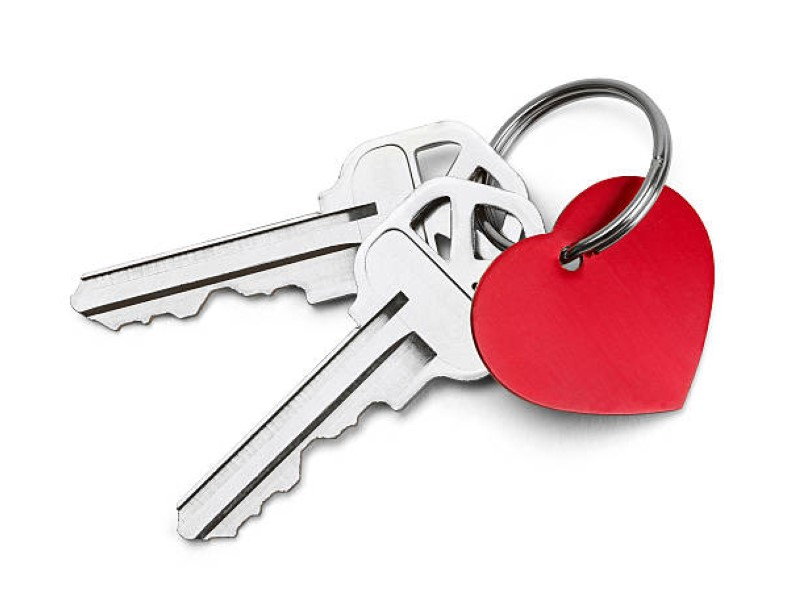key: (64, 116, 549, 546)
